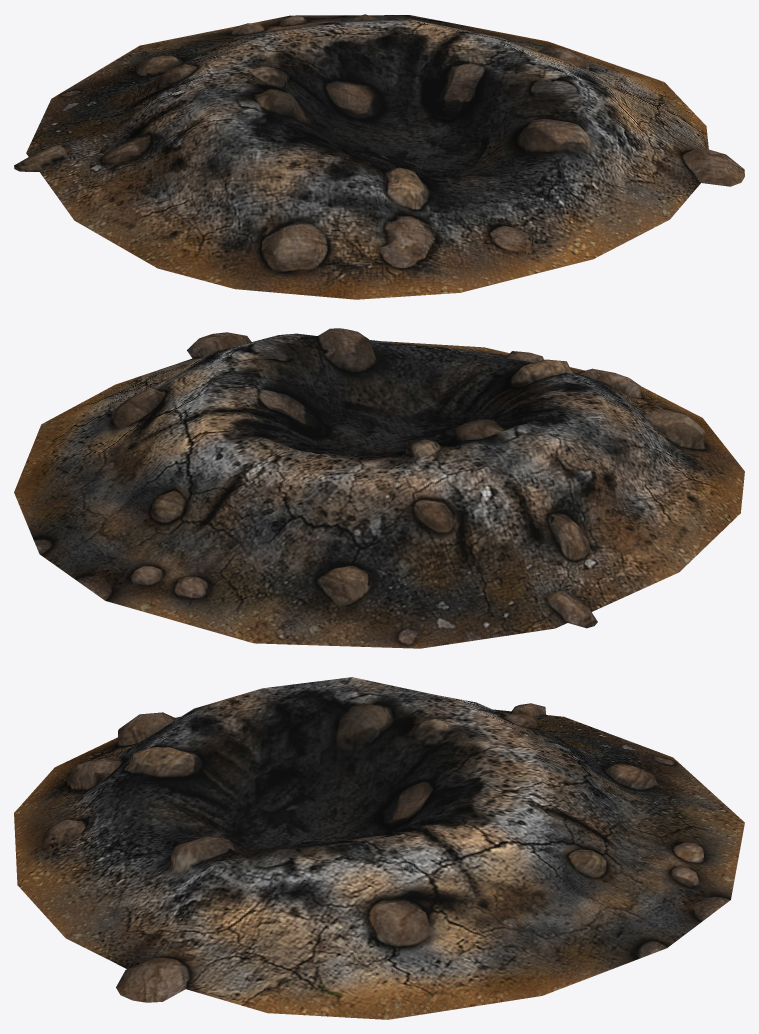
File: small_crater_3x3.dae
3 renders of one model, top to bottom at view 1: azimuth 30°, elevation 25°; view 2: azimuth 150°, elevation 25°; view 3: azimuth 270°, elevation 25°, orthographic. The views are drawn at different scales.
Parts seen in each view (by area): view 1: crater1; view 2: crater1; view 3: crater1.
Boxes of the visible parts, x1=… form: crater1: x1=14, y1=14, x2=744, y2=299; crater1: x1=14, y1=328, x2=744, y2=648; crater1: x1=14, y1=677, x2=744, y2=1019.
Bounding box in the file's own units: 8.01 × 7.87 × 1.21.
Materials: 1 (1 with a texture image).
